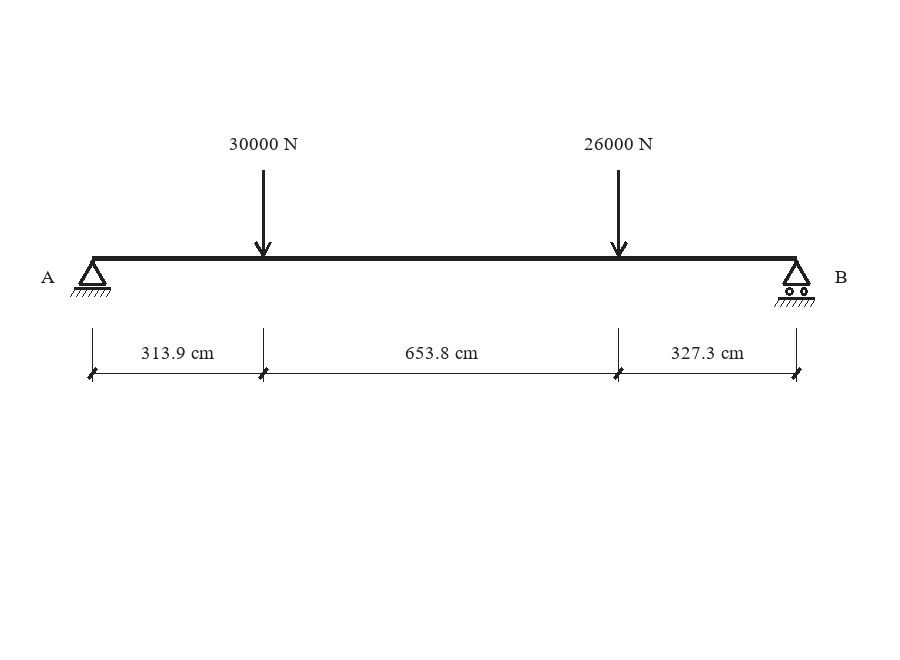pin_support: (70, 260, 111, 297)
point_load: (254, 170, 272, 257), (610, 170, 628, 257)
roller_support: (774, 260, 815, 307)
